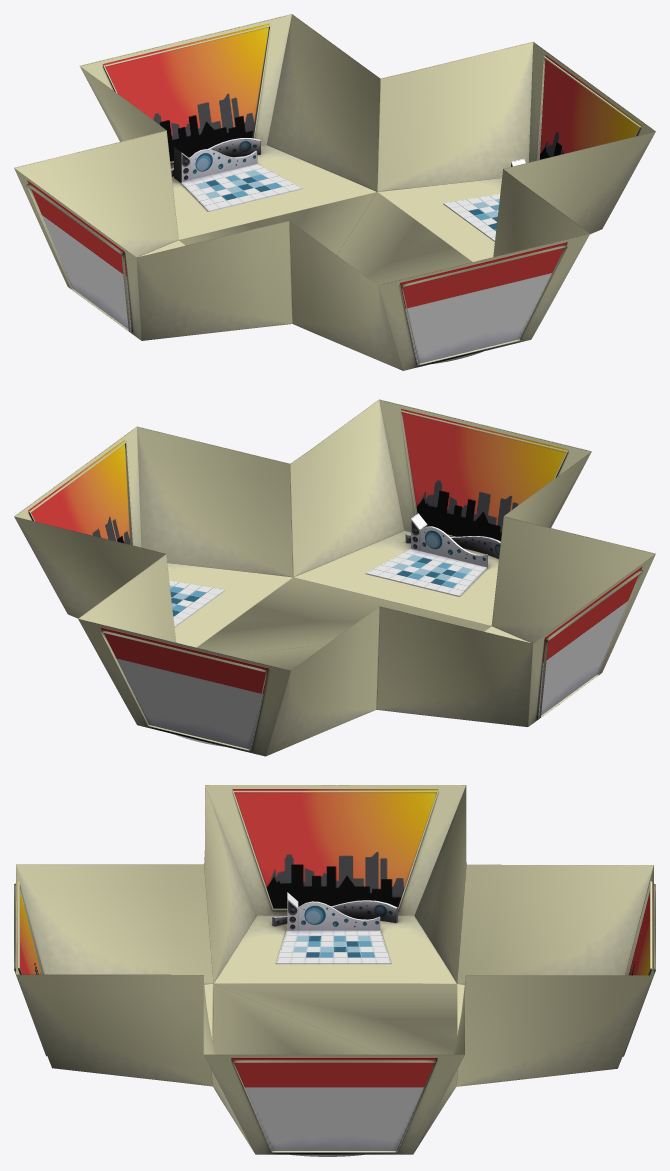
The model's file is rooms.FBX.
3 renders of one model, top to bottom at view 1: azimuth 30°, elevation 25°; view 2: azimuth 150°, elevation 25°; view 3: azimuth 270°, elevation 25°, orthographic. The views are drawn at different scales.
Parts seen in each view (by area): view 1: Object09, Object02, Object07, Object10, Object01, Object05, Object08, Object04, Object06, Box03, Box11, Line01 (+1 smaller); view 2: Object09, Object02, Object10, Object07, Object05, Object01, Object08, Object04, Object06, Box08, Box11, Line11 (+1 smaller); view 3: Object10, Object07, Object02, Object04, Object08, Object06, Object09, Box05, Line09, Line08, Object01, Object05.
Part boxes in pixels (left/top/right/bottom): Object09: left=377, top=42, right=655, bottom=261; Object02: left=14, top=130, right=292, bottom=340; Object07: left=80, top=14, right=380, bottom=239; Object10: left=289, top=169, right=590, bottom=370; Object01: left=102, top=23, right=269, bottom=161; Object05: left=400, top=242, right=567, bottom=365; Object08: left=179, top=192, right=472, bottom=285; Object04: left=27, top=180, right=131, bottom=332; Object06: left=539, top=55, right=641, bottom=159; Box03: left=181, top=164, right=302, bottom=211; Box11: left=443, top=193, right=500, bottom=241; Line01: left=189, top=149, right=257, bottom=179; Object09: left=14, top=426, right=293, bottom=647; Object02: left=376, top=516, right=655, bottom=726; Object10: left=290, top=399, right=591, bottom=625; Object07: left=78, top=554, right=379, bottom=756; Object05: left=401, top=409, right=568, bottom=541; Object01: left=100, top=627, right=268, bottom=751; Object08: left=197, top=577, right=491, bottom=670; Object04: left=537, top=566, right=642, bottom=719; Object06: left=28, top=440, right=130, bottom=544; Box08: left=365, top=548, right=486, bottom=596; Box11: left=169, top=580, right=224, bottom=627; Line11: left=420, top=526, right=487, bottom=567; Object10: left=14, top=864, right=213, bottom=1086; Object07: left=456, top=864, right=655, bottom=1086; Object02: left=204, top=785, right=466, bottom=983; Object04: left=232, top=789, right=438, bottom=908; Object08: left=213, top=983, right=456, bottom=1054; Object06: left=231, top=1057, right=437, bottom=1152; Object09: left=203, top=975, right=465, bottom=1154; Box05: left=276, top=930, right=391, bottom=964; Line09: left=298, top=901, right=380, bottom=930; Line08: left=272, top=900, right=397, bottom=926; Object01: left=628, top=881, right=652, bottom=975; Object05: left=17, top=881, right=41, bottom=974.
Bounding box in the file's own units: 1005 × 208 × 1005.
